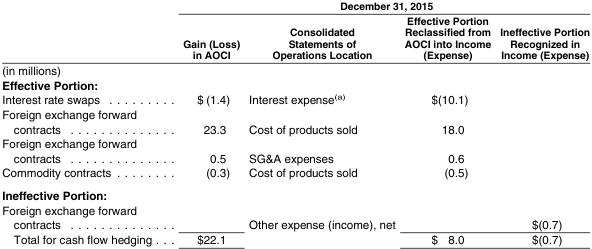table: (1, 1, 589, 245)
table column: (1, 1, 166, 245), (243, 1, 399, 245), (399, 1, 494, 245), (494, 1, 589, 245), (166, 1, 243, 245)
table column header: (1, 1, 589, 78)
table projected row header: (1, 184, 589, 203), (1, 78, 589, 91)
table row: (1, 13, 589, 78), (1, 107, 589, 136), (1, 136, 589, 165), (1, 203, 589, 232), (1, 165, 589, 184), (1, 184, 589, 203), (1, 91, 589, 107), (1, 78, 589, 91), (1, 232, 589, 245), (1, 1, 589, 13)
table spanning cell: (1, 1, 166, 78), (166, 1, 589, 13)
